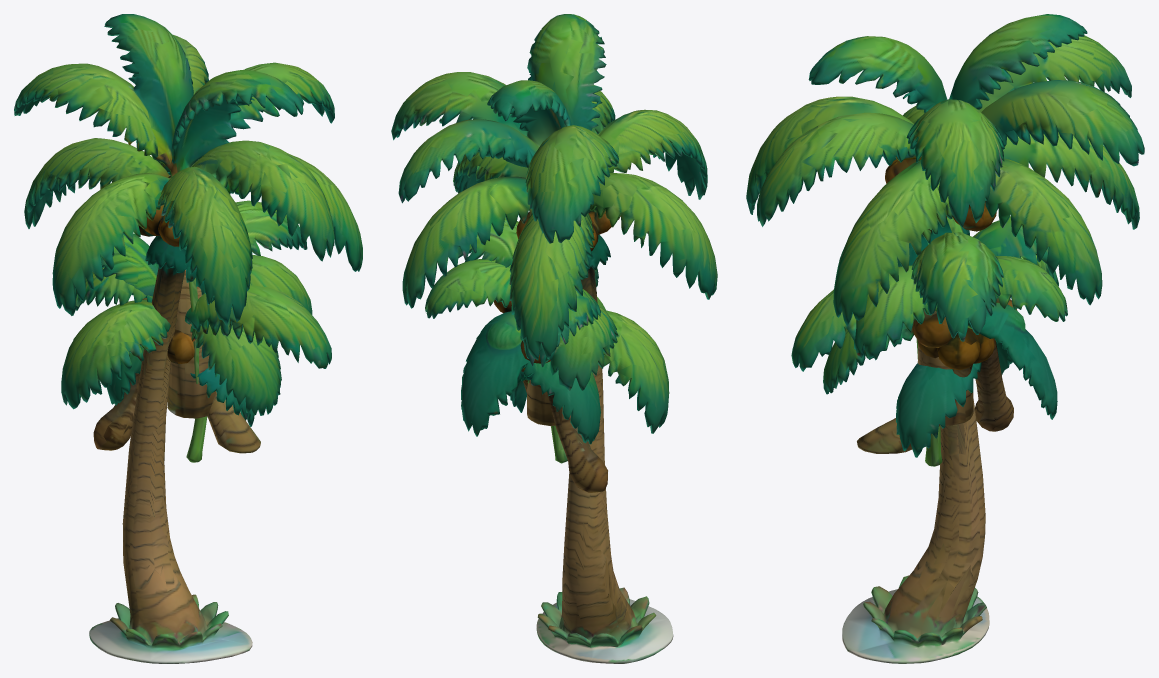
File: palmtree.fbx
3 views of the same model, side by side, from view 1: azimuth 30°, elevation 25°; view 2: azimuth 150°, elevation 25°; view 3: azimuth 270°, elevation 25° (orthographic). The views are drawn at different scales.
Parts seen in each view (by area): view 1: palmtree_01, palmtree_03, palmtree_02, palmtree_04, palmtree_05; view 2: palmtree_01, palmtree_02, palmtree_03, palmtree_04; view 3: palmtree_01, palmtree_03, palmtree_02, palmtree_04, palmtree_05.
Boxes of the visible parts, bbox=[...] form: palmtree_01: bbox=[14, 14, 362, 663]; palmtree_03: bbox=[61, 200, 331, 450]; palmtree_02: bbox=[70, 255, 312, 453]; palmtree_04: bbox=[167, 270, 216, 418]; palmtree_05: bbox=[186, 278, 207, 462]; palmtree_01: bbox=[391, 14, 717, 663]; palmtree_02: bbox=[425, 259, 618, 444]; palmtree_03: bbox=[458, 217, 669, 492]; palmtree_04: bbox=[527, 380, 555, 426]; palmtree_01: bbox=[746, 14, 1144, 663]; palmtree_03: bbox=[791, 216, 1048, 457]; palmtree_02: bbox=[823, 255, 1067, 453]; palmtree_04: bbox=[917, 344, 973, 425]; palmtree_05: bbox=[916, 217, 971, 466].
Bounding box in the file's own units: 29.41 × 54.87 × 31.68.
Materials: 1 (1 with a texture image).
